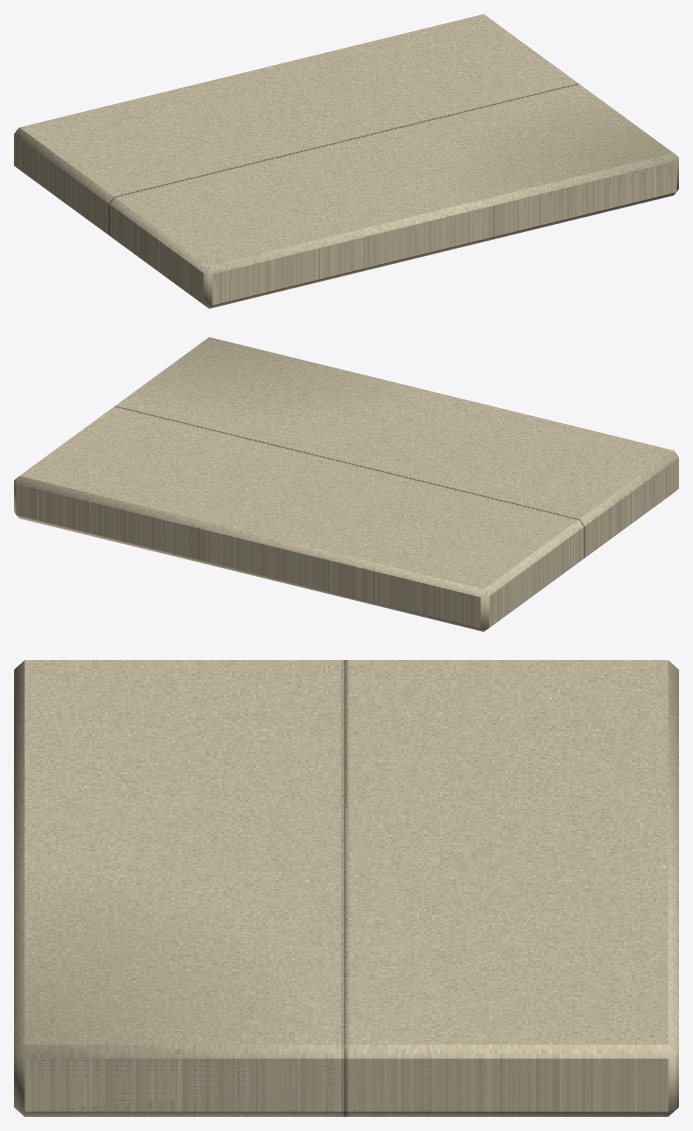
The model's file is GiayKeChan.glb.
3 views of the same model, one above another, from view 1: azimuth 30°, elevation 25°; view 2: azimuth 150°, elevation 25°; view 3: azimuth 270°, elevation 25° (orthographic). The views are drawn at different scales.
Parts seen in each view (by area): view 1: GiayKeChan; view 2: GiayKeChan; view 3: GiayKeChan.
Part boxes in pixels (<box>): GiayKeChan: <box>14,14,678,308</box>; GiayKeChan: <box>14,337,678,631</box>; GiayKeChan: <box>14,660,678,1116</box>.
Size of the model in its own units: 0.07 by 0.006 by 0.05.
Materials: 1 (1 with a texture image).
